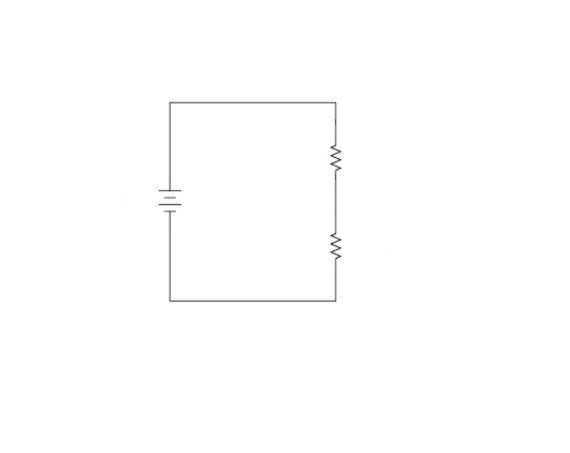resistor: (307, 218, 354, 269), (318, 131, 350, 180)
